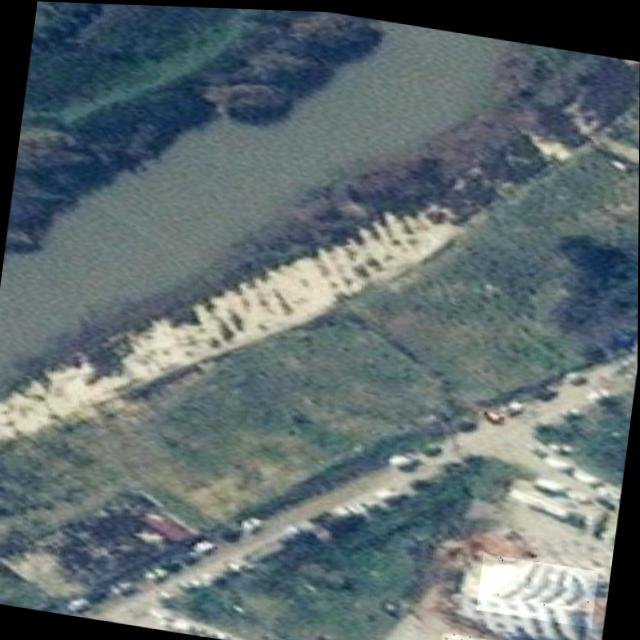Rubble: (477, 548, 599, 623), (438, 627, 583, 640)
